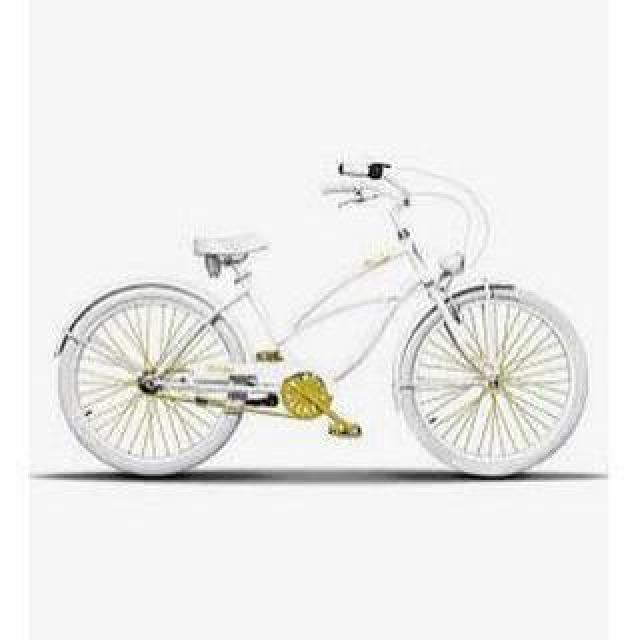Person: (55, 152, 595, 486)
